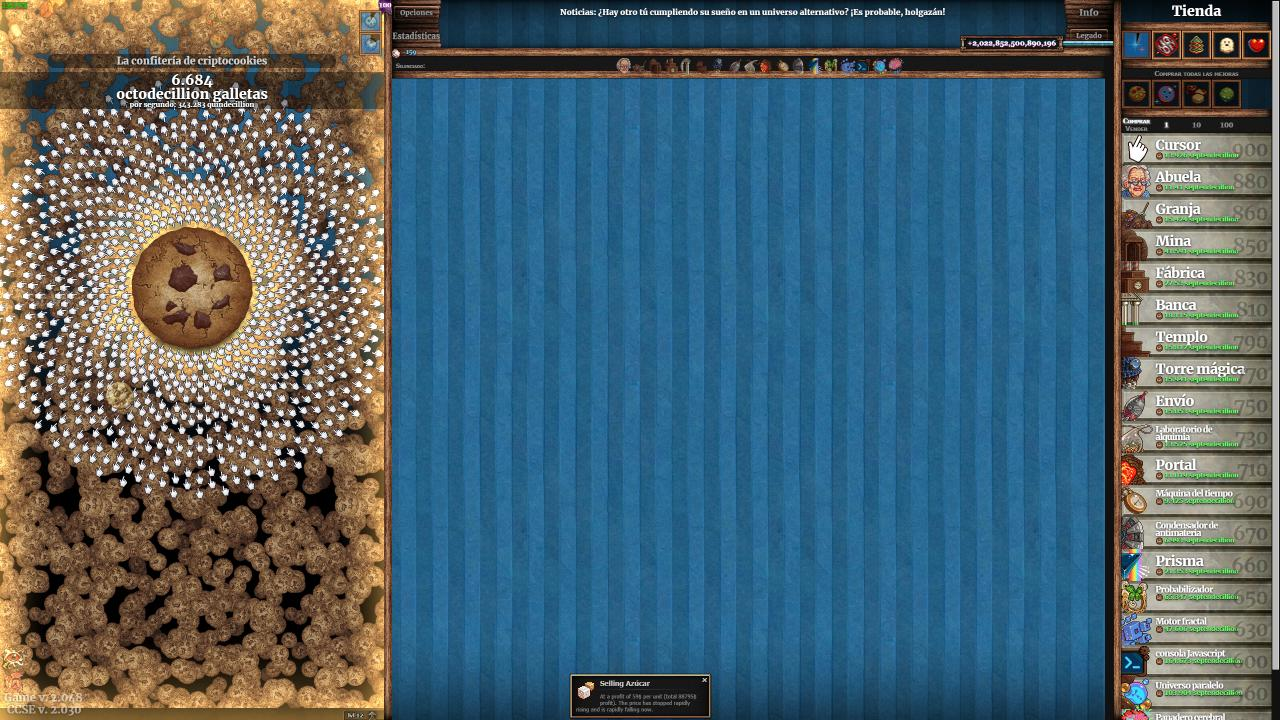GoldenCookie: (105, 380, 135, 410)
